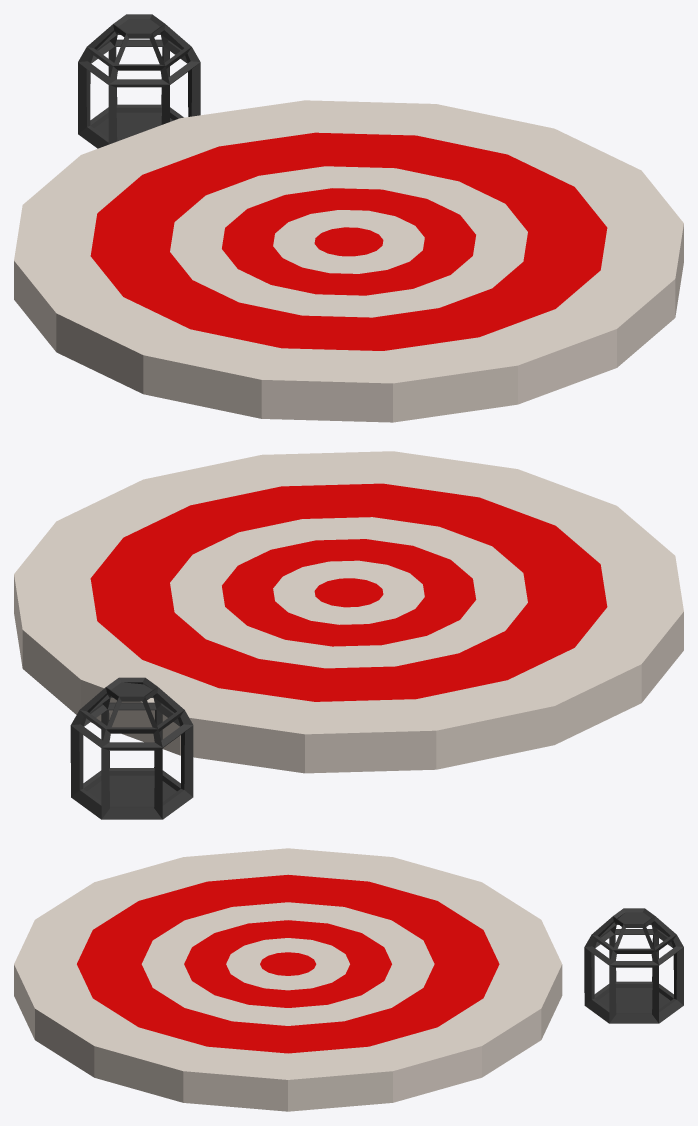
File: Target.glb
The picture shows the model from 3 angles, top to bottom: view 1: azimuth 30°, elevation 25°; view 2: azimuth 150°, elevation 25°; view 3: azimuth 270°, elevation 25°; orthographic projection. The views are drawn at different scales.
Visible parts, largest first — view 1: Target, LightAnchor; view 2: Target, LightAnchor; view 3: Target, LightAnchor.
Part boxes in pixels (box(x1,y1,x2,y2)): Target: box(14, 100, 683, 422); LightAnchor: box(78, 14, 200, 148); Target: box(14, 451, 683, 773); LightAnchor: box(70, 677, 193, 819); Target: box(14, 848, 562, 1111); LightAnchor: box(584, 908, 683, 1023).
Bounding box in the file's own units: 2 × 0.3601 × 2.44.
